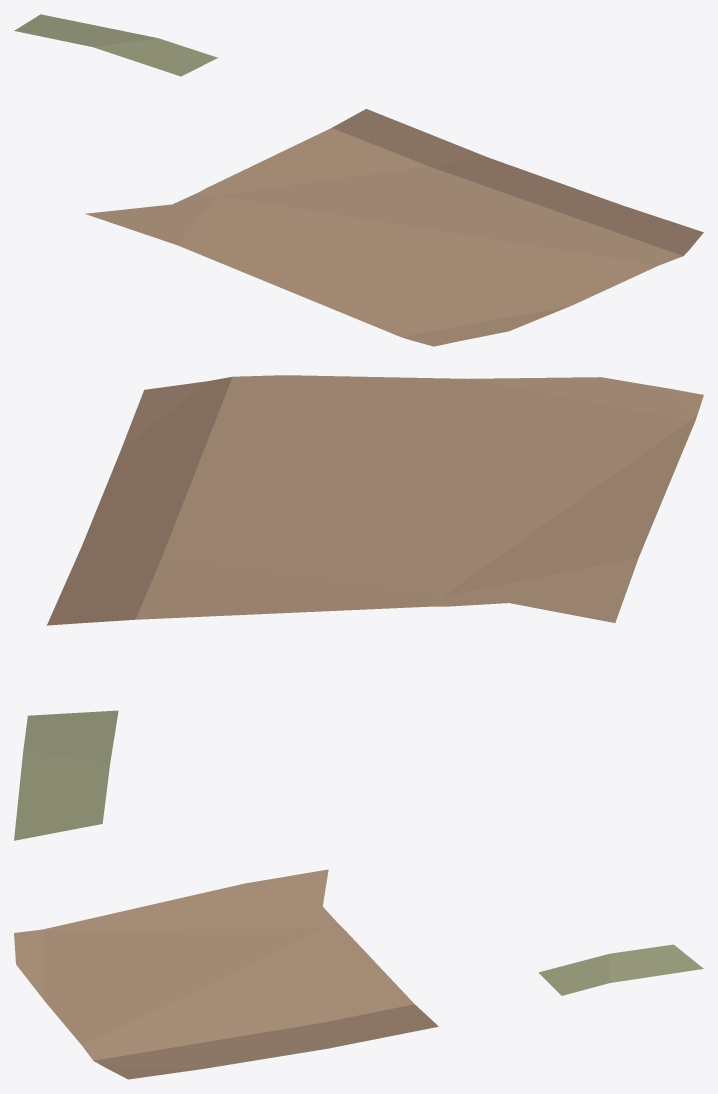
Rendered from farm_-31_-28_soil.glb.
3 renders of one model, top to bottom at view 1: azimuth 30°, elevation 25°; view 2: azimuth 150°, elevation 25°; view 3: azimuth 270°, elevation 25°, orthographic. The views are drawn at different scales.
Parts seen in each view (by area): view 1: geometry_0; view 2: geometry_0; view 3: geometry_0.
Part boxes in pixels (left/top/right/bottom): geometry_0: left=14, top=14, right=703, bottom=346; geometry_0: left=14, top=375, right=703, bottom=840; geometry_0: left=14, top=869, right=703, bottom=1079.
Size of the model in its own units: 120 by 9.88 by 195.
